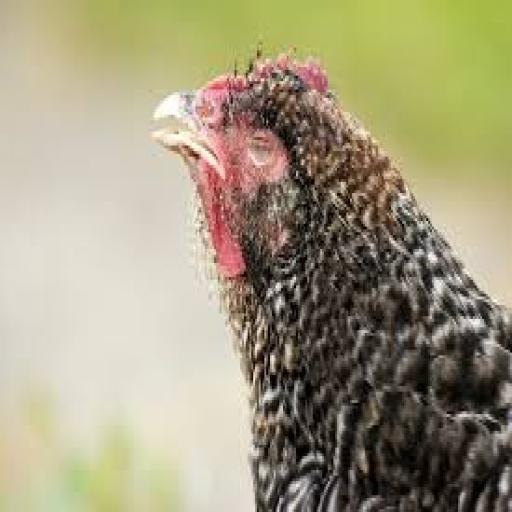disease: (221, 102, 290, 184)
